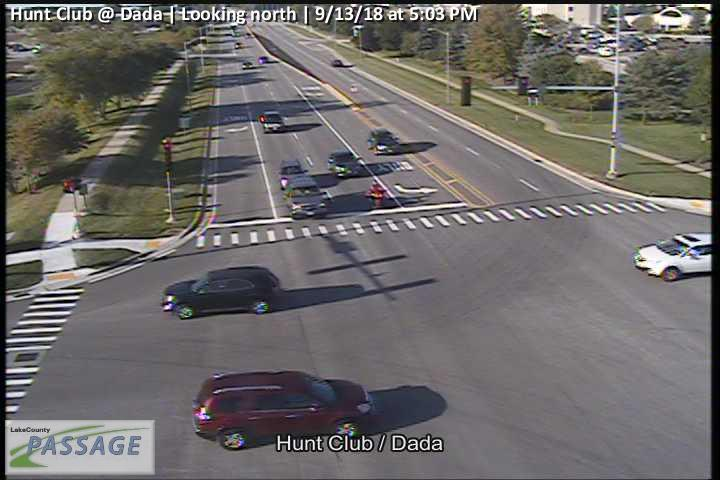SUV: (192, 369, 374, 450), (159, 265, 280, 321)
Sedan: (632, 233, 711, 283), (286, 181, 327, 218), (370, 128, 400, 157), (278, 159, 309, 187), (328, 151, 359, 178), (261, 110, 286, 132), (331, 58, 343, 67)
